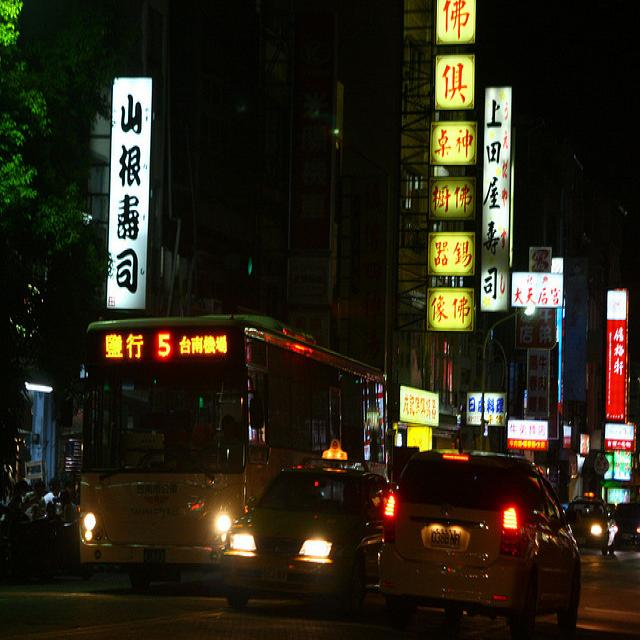Bus: (69, 325, 400, 611)
Motorbike: (0, 459, 74, 601)
car: (382, 419, 588, 640), (213, 449, 395, 640), (567, 477, 624, 573), (612, 473, 640, 595)
